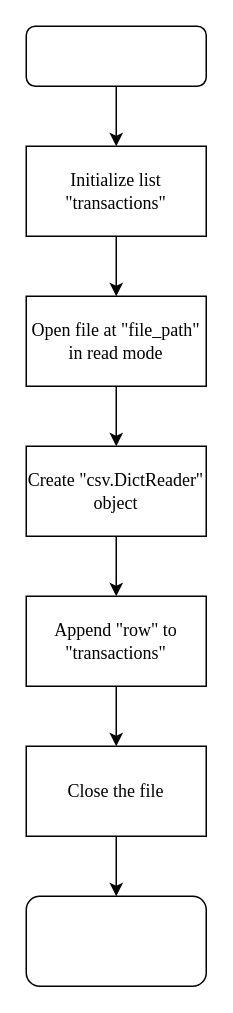
This 233x1013 diagram has some shape labels left out. Each missing label, with the centre of its shape:
Read Transactions: pixel 115 55
Return "transactions" list: pixel 115 940
